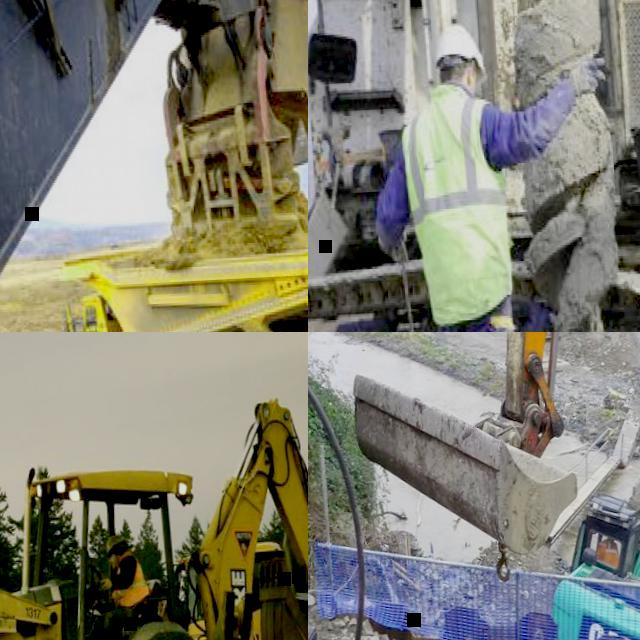helmet: (436, 22, 488, 81), (103, 532, 125, 552)
machinery: (308, 0, 640, 332), (0, 0, 308, 332), (308, 332, 625, 640), (0, 395, 308, 640), (540, 363, 640, 640), (54, 223, 308, 332), (180, 529, 308, 640)
no_mask: (108, 555, 120, 570)
person: (366, 13, 633, 332), (83, 529, 155, 640), (598, 535, 620, 567)
vest: (398, 83, 516, 324), (108, 550, 148, 606), (600, 539, 618, 565)
